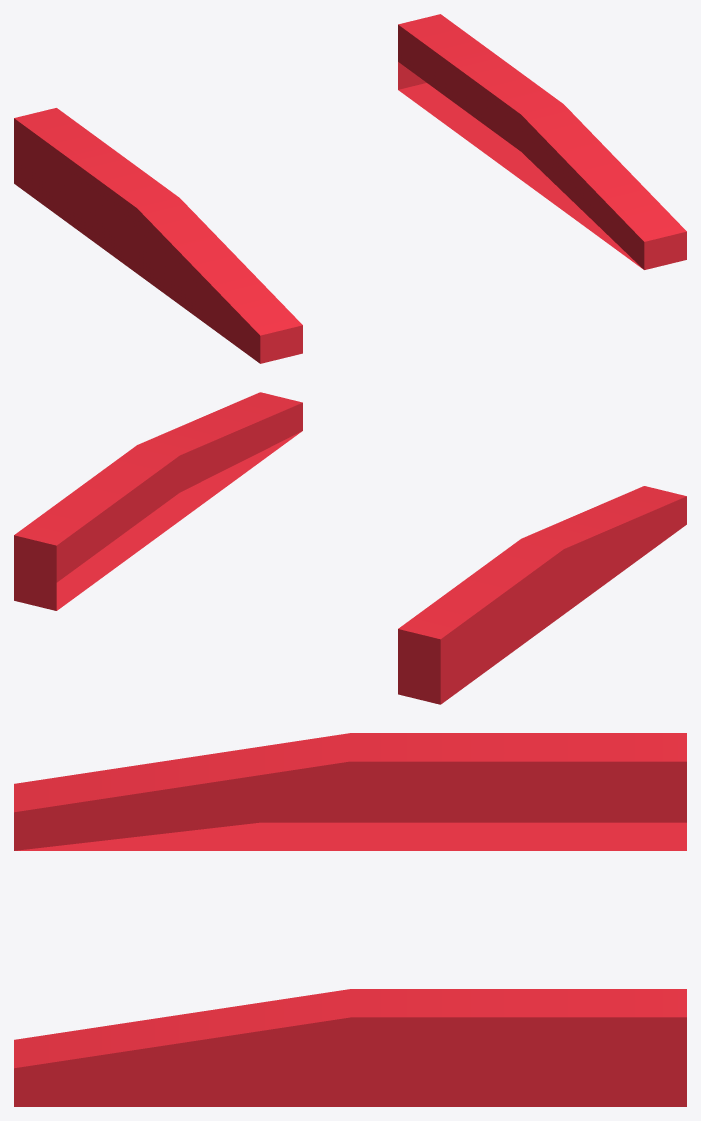
File: Paredes 1.FBX
The picture shows the model from 3 angles, top to bottom: view 1: azimuth 30°, elevation 25°; view 2: azimuth 150°, elevation 25°; view 3: azimuth 270°, elevation 25°; orthographic projection. The views are drawn at different scales.
Parts seen in each view (by area): view 1: start; view 2: start; view 3: start.
Part boxes in pixels (x1,y1,x2,y2): start: [14, 14, 686, 363]; start: [14, 392, 686, 704]; start: [14, 733, 686, 1106].
Bounding box in the file's own units: 99.99 × 14.67 × 99.99.
